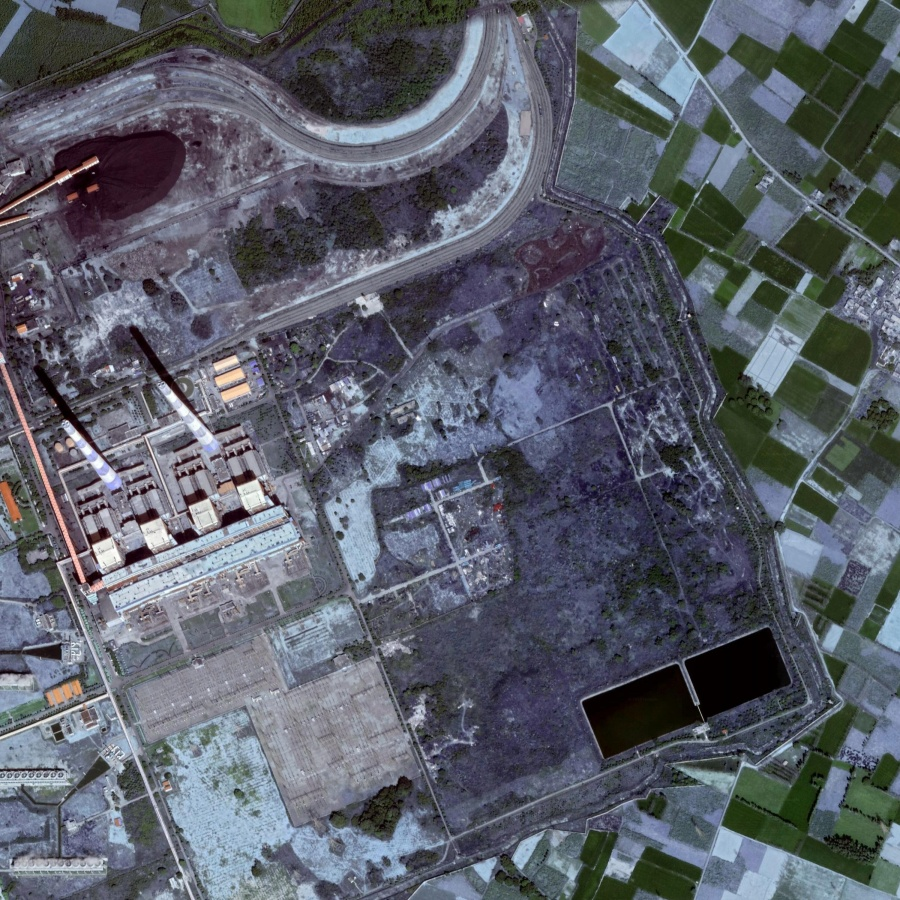PowerPlant: (23, 318, 260, 524), (561, 607, 802, 793)
